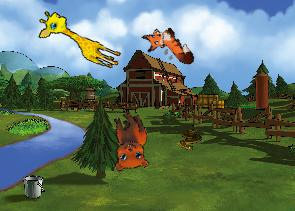bear: (99, 108, 156, 176)
fox: (138, 17, 197, 79)
giraffe: (33, 7, 127, 71)
